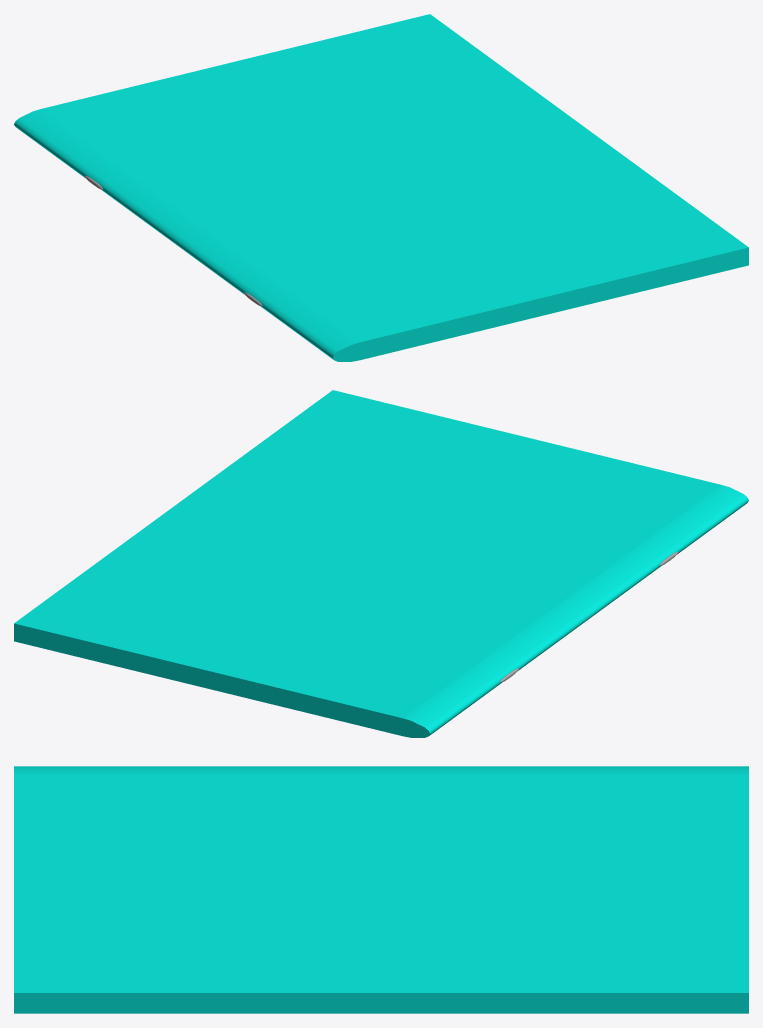
File: magazine.fbx
3 views of the same model, one above another, from view 1: azimuth 30°, elevation 25°; view 2: azimuth 150°, elevation 25°; view 3: azimuth 270°, elevation 25° (orthographic). The views are drawn at different scales.
Parts seen in each view (by area): view 1: pCube9; view 2: pCube9; view 3: pCube9.
Part boxes in pixels (box(x1,y1,x2,y2)): pCube9: box(14, 14, 748, 361); pCube9: box(14, 390, 748, 737); pCube9: box(14, 766, 748, 1013).
Bounding box in the file's own units: 1.51 × 0.0621 × 2.
